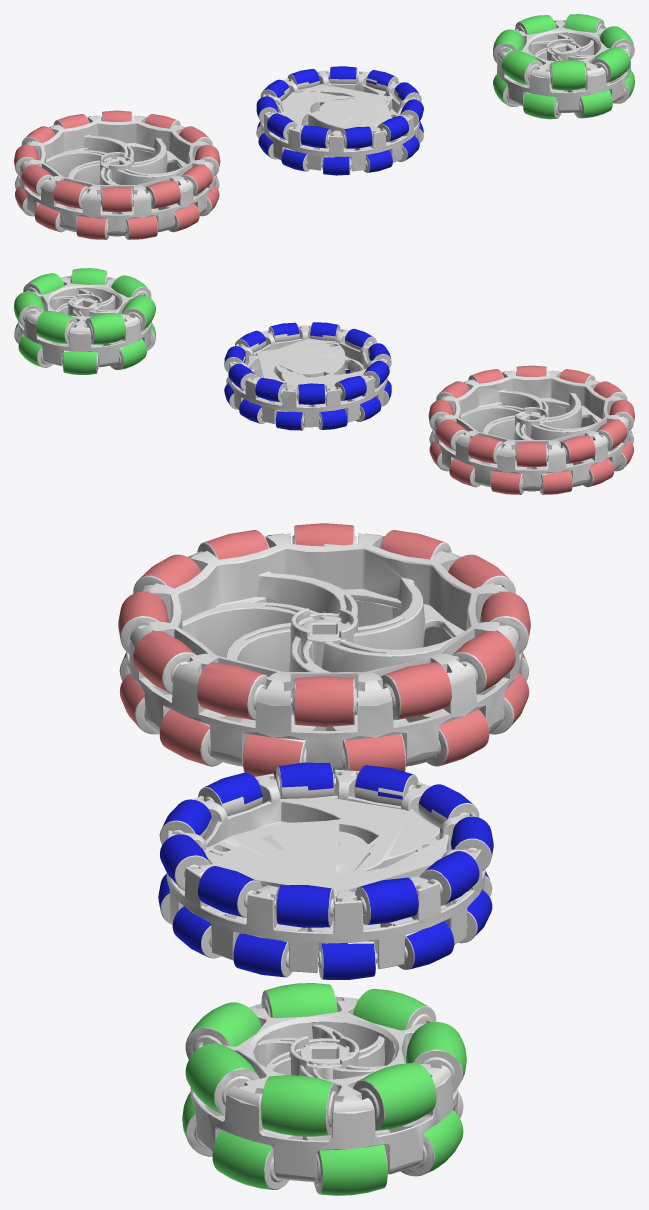
The model's file is OmniWheels.fbx.
The picture shows the model from 3 angles, top to bottom: view 1: azimuth 30°, elevation 25°; view 2: azimuth 150°, elevation 25°; view 3: azimuth 270°, elevation 25°; orthographic projection. The views are drawn at different scales.
Visible parts, largest first — view 1: OMNI 4in, OMNI 3.25in, OMNI 2.75in; view 2: OMNI 4in, OMNI 3.25in, OMNI 2.75in; view 3: OMNI 4in, OMNI 3.25in, OMNI 2.75in.
Boxes of the visible parts, x1,y1,x2,y2 form: OMNI 4in: (14,110,220,239); OMNI 3.25in: (256,66,423,175); OMNI 2.75in: (493,14,634,119); OMNI 4in: (428,365,634,494); OMNI 3.25in: (224,322,391,430); OMNI 2.75in: (14,268,155,374); OMNI 4in: (118,523,530,779); OMNI 3.25in: (158,762,493,979); OMNI 2.75in: (182,983,466,1195).
Size of the model in its own units: 1338 by 122 by 400.
